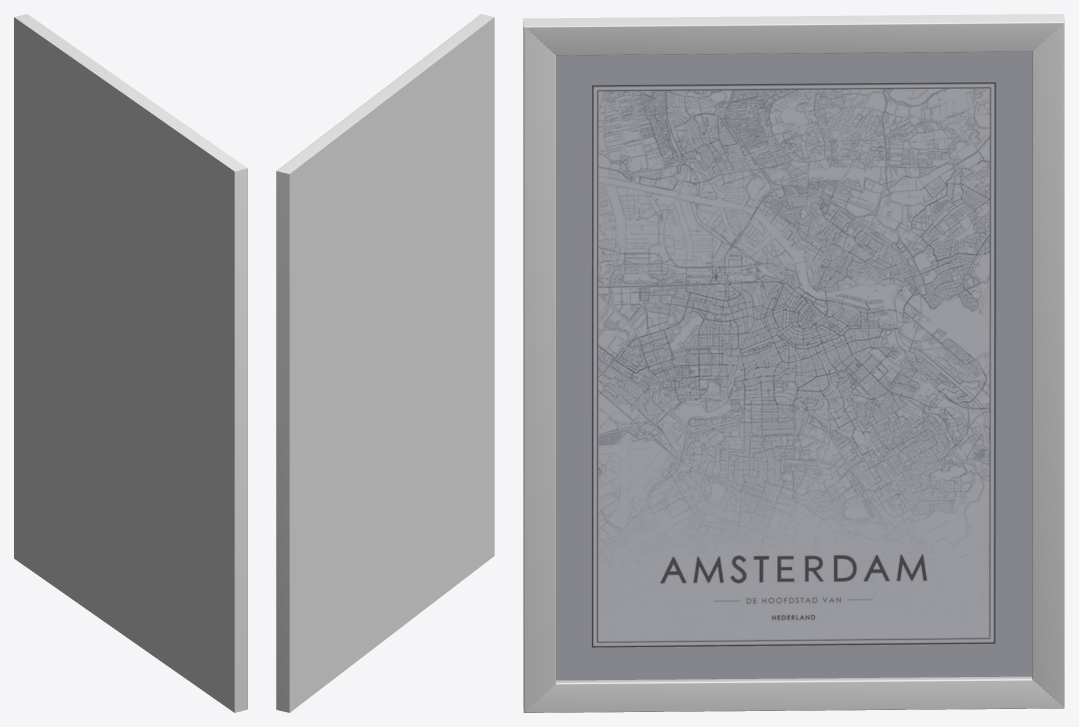
File: Foto_met_frame_01.fbx
The picture shows the model from 3 angles, left to right: view 1: azimuth 30°, elevation 25°; view 2: azimuth 150°, elevation 25°; view 3: azimuth 270°, elevation 25°; orthographic projection. The views are drawn at different scales.
Visible parts, largest first — view 1: Box046; view 2: Box046; view 3: Box046.
Part boxes in pixels (bbox=[...]): Box046: bbox=[14, 14, 247, 712]; Box046: bbox=[276, 14, 494, 712]; Box046: bbox=[523, 14, 1064, 712].
Bounding box in the file's own units: 2.82 × 70 × 50.02.
